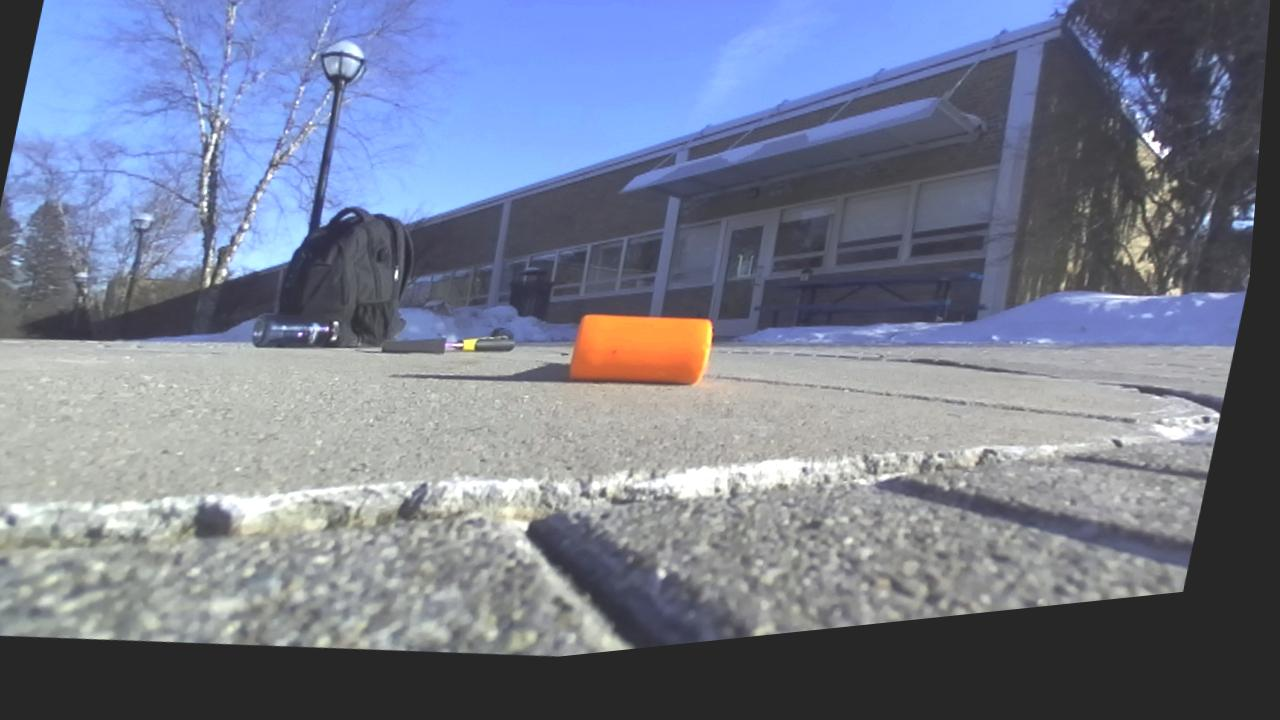bottle: (251, 314, 337, 346)
mallet: (570, 314, 712, 384)
pick: (383, 336, 514, 353)
